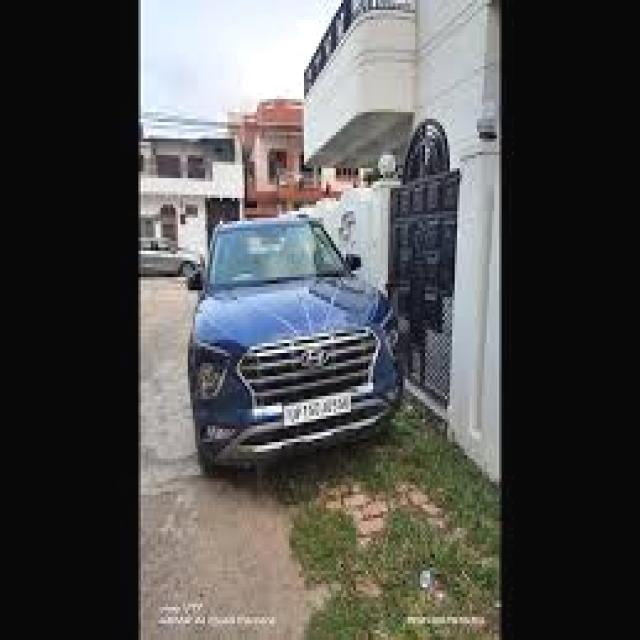CMT: (182, 208, 397, 474)
